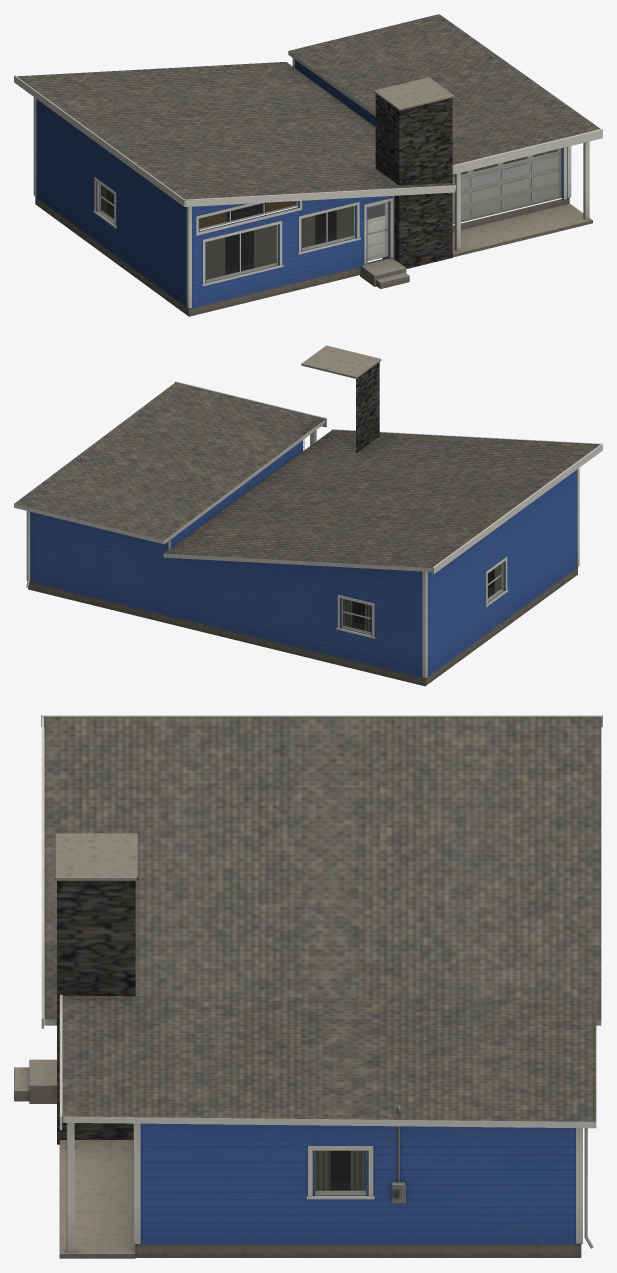
The model's file is ranch_blue.glb.
3 views of the same model, one above another, from view 1: azimuth 30°, elevation 25°; view 2: azimuth 150°, elevation 25°; view 3: azimuth 270°, elevation 25° (orthographic). The views are drawn at different scales.
Parts seen in each view (by area): view 1: ranch_blue; view 2: ranch_blue; view 3: ranch_blue.
Boxes of the visible parts, x1=… form: ranch_blue: x1=14, y1=14, x2=602, y2=316; ranch_blue: x1=14, y1=345, x2=602, y2=686; ranch_blue: x1=14, y1=715, x2=602, y2=1258.
Size of the model in its own units: 15.93 by 5.91 by 11.63.
2 materials, 2 textured.
